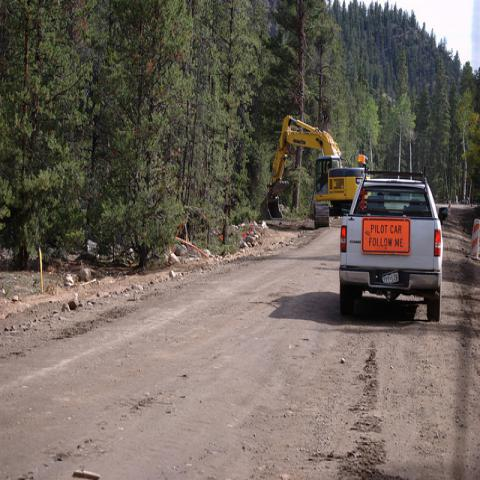truck: (340, 167, 443, 324)
